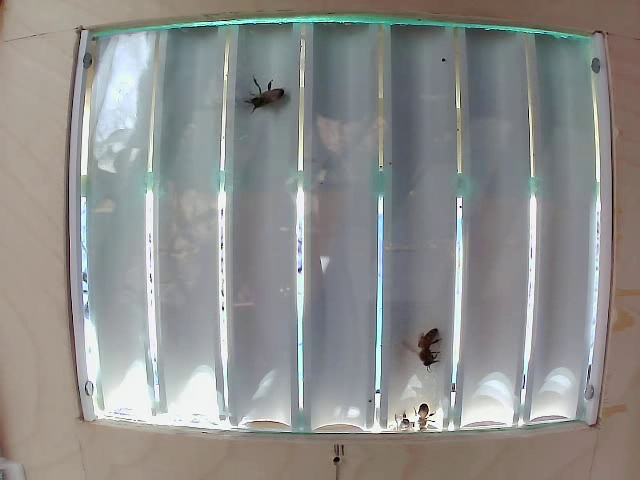bee: (242, 90, 307, 120), (417, 318, 445, 373)
